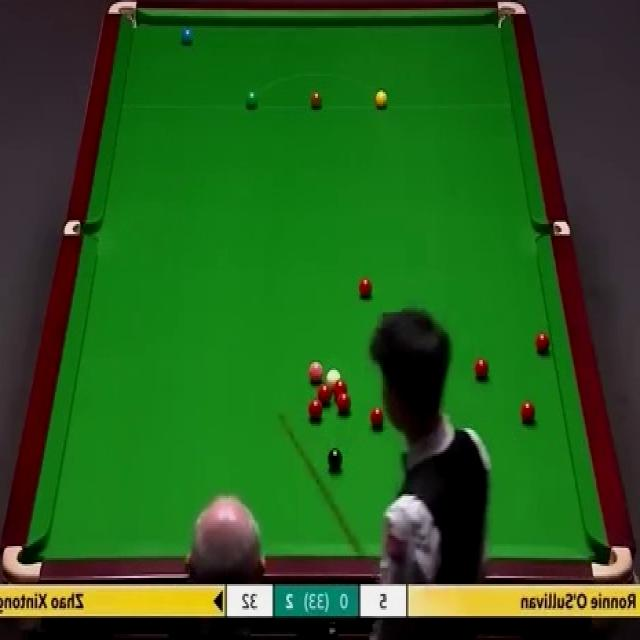black-ball: (328, 449, 342, 472)
blue-ball: (178, 27, 192, 44)
brown-ball: (309, 90, 322, 110)
green-ball: (245, 90, 259, 111)
pink-ball: (308, 359, 324, 384)
red-ball: (474, 354, 490, 384), (369, 405, 385, 432), (534, 330, 550, 354), (308, 396, 323, 421), (314, 380, 330, 402), (521, 400, 535, 424), (358, 278, 373, 300), (333, 378, 347, 401), (337, 393, 351, 414)
white-ball: (326, 368, 342, 384)
yellow-ball: (374, 89, 389, 110)
